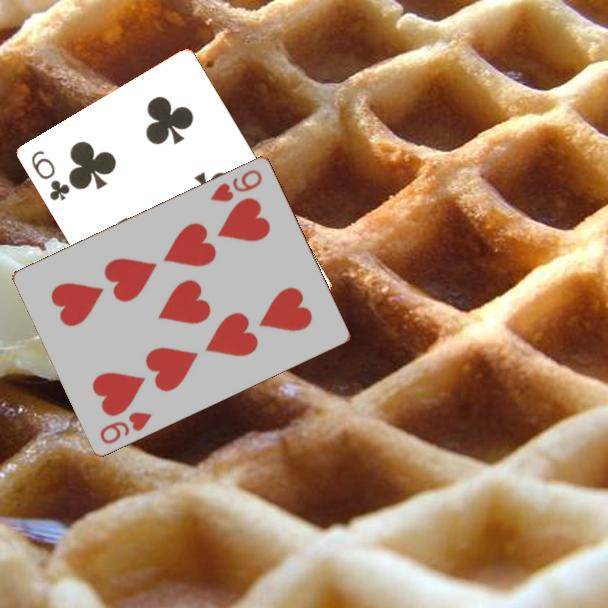c06: (28, 147, 73, 204)
h09: (207, 165, 265, 205), (96, 408, 155, 447)
